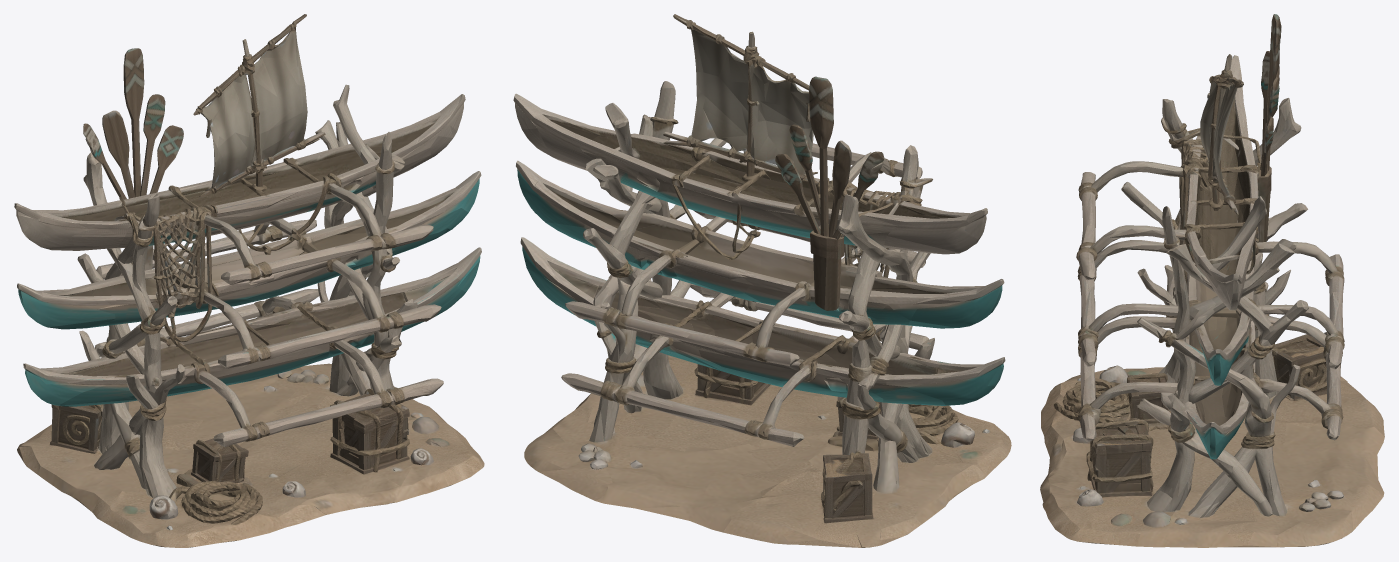
Rendered from canoe_rack.glb.
3 renders of one model, left to right at view 1: azimuth 30°, elevation 25°; view 2: azimuth 150°, elevation 25°; view 3: azimuth 270°, elevation 25°, orthographic. The views are drawn at different scales.
Parts seen in each view (by area): view 1: Mesh_0; view 2: Mesh_0; view 3: Mesh_0.
Part boxes in pixels (x1,y1,x2,y2): Mesh_0: (14, 14, 484, 547); Mesh_0: (513, 14, 1011, 547); Mesh_0: (1040, 14, 1384, 547).
Size of the model in its own units: 1.9 by 1.62 by 1.23.
Materials: 1 (1 with a texture image).
